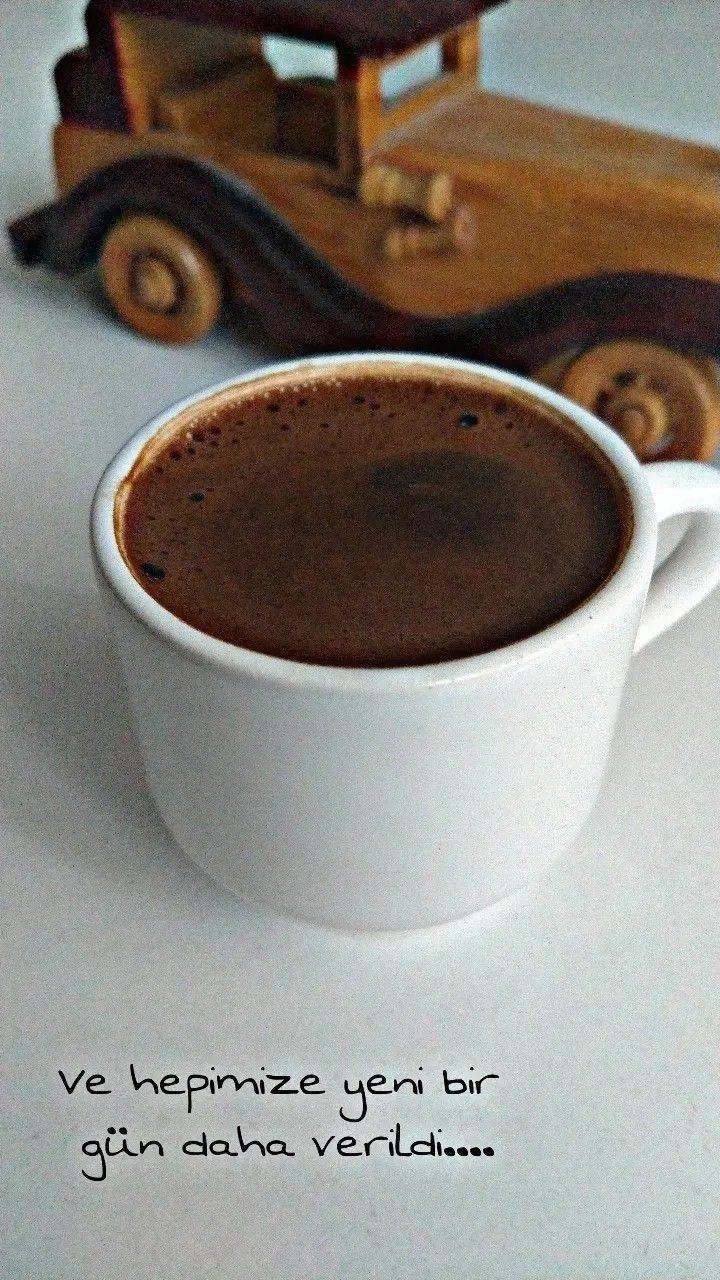cup-handle: (89, 347, 719, 936)
